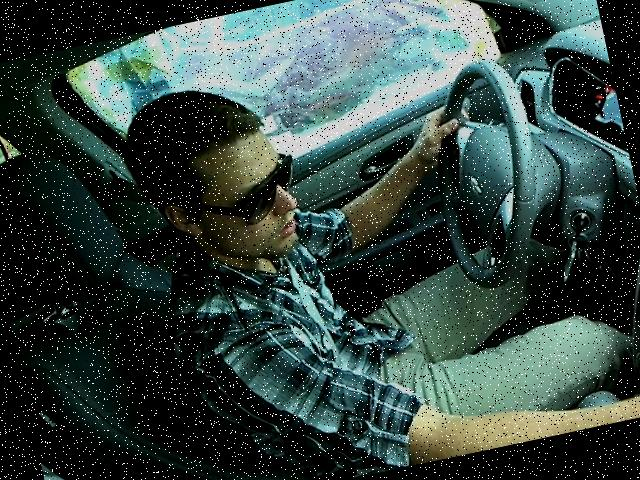c3 - Operating the Radio: (101, 0, 639, 479)
